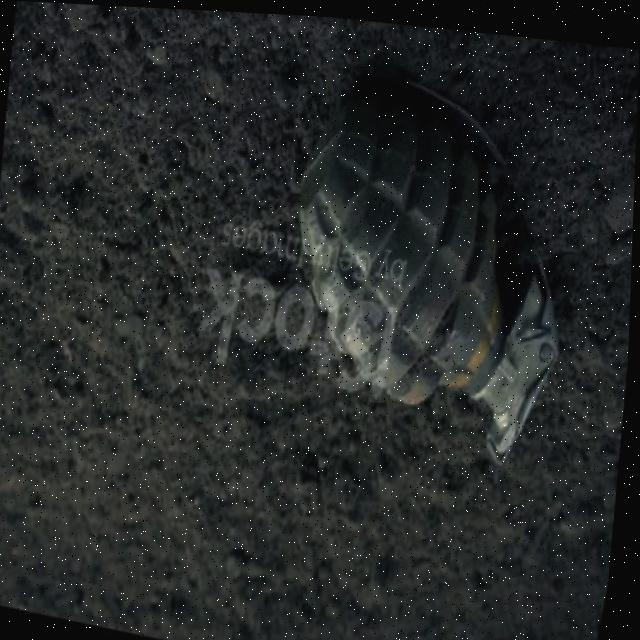grenade: (251, 44, 613, 473)
